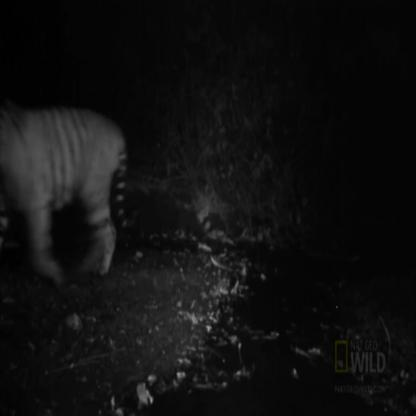Tiger: (0, 82, 145, 287)
